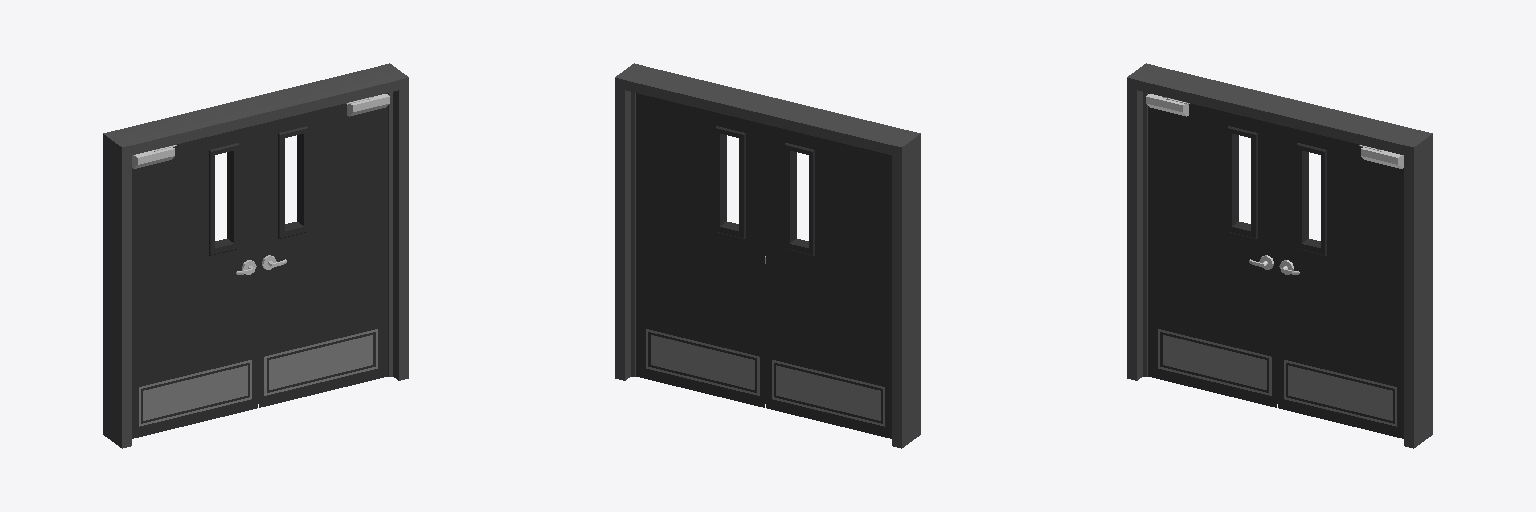
The picture shows the model from 3 angles: view 1: azimuth 30°, elevation 25°; view 2: azimuth 150°, elevation 25°; view 3: azimuth 330°, elevation 25°; orthographic projection.
Parts seen in each view (by area): view 1: Doors; view 2: Doors; view 3: Doors.
Boxes of the visible parts, box(x1,y1,x2,y2) form: Doors: box(103, 63, 408, 448); Doors: box(615, 63, 920, 448); Doors: box(1127, 63, 1432, 448).
Size of the model in its own units: 3.1 by 3.11 by 0.3616.
1 materials, 1 textured.